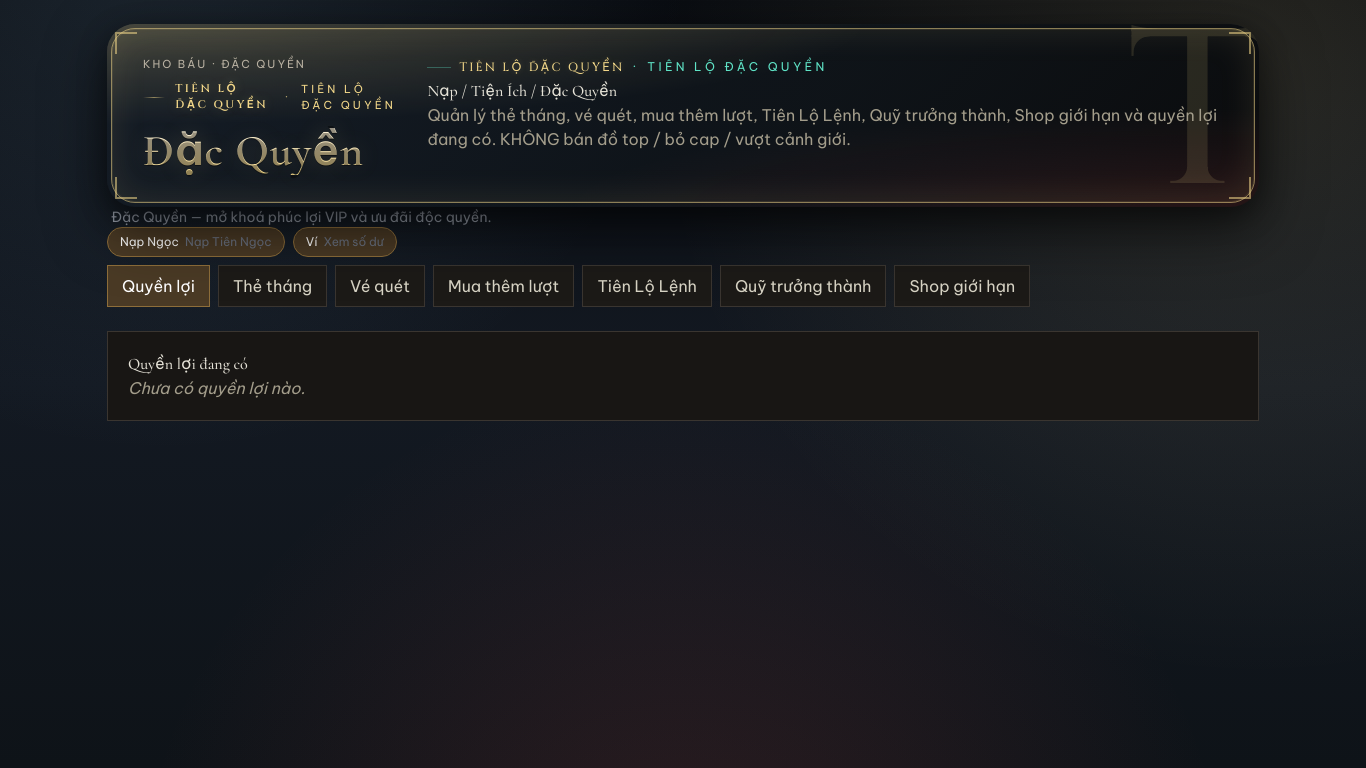
it: MonetizationDacQuyenView — Phase 27.1–27.5 › switches to limited shop tab and disables sold-out item
Click the tab with class "tab" showing "Shop giới hạn" at {"x": 962, "y": 286}, box [894,265,1030,307]
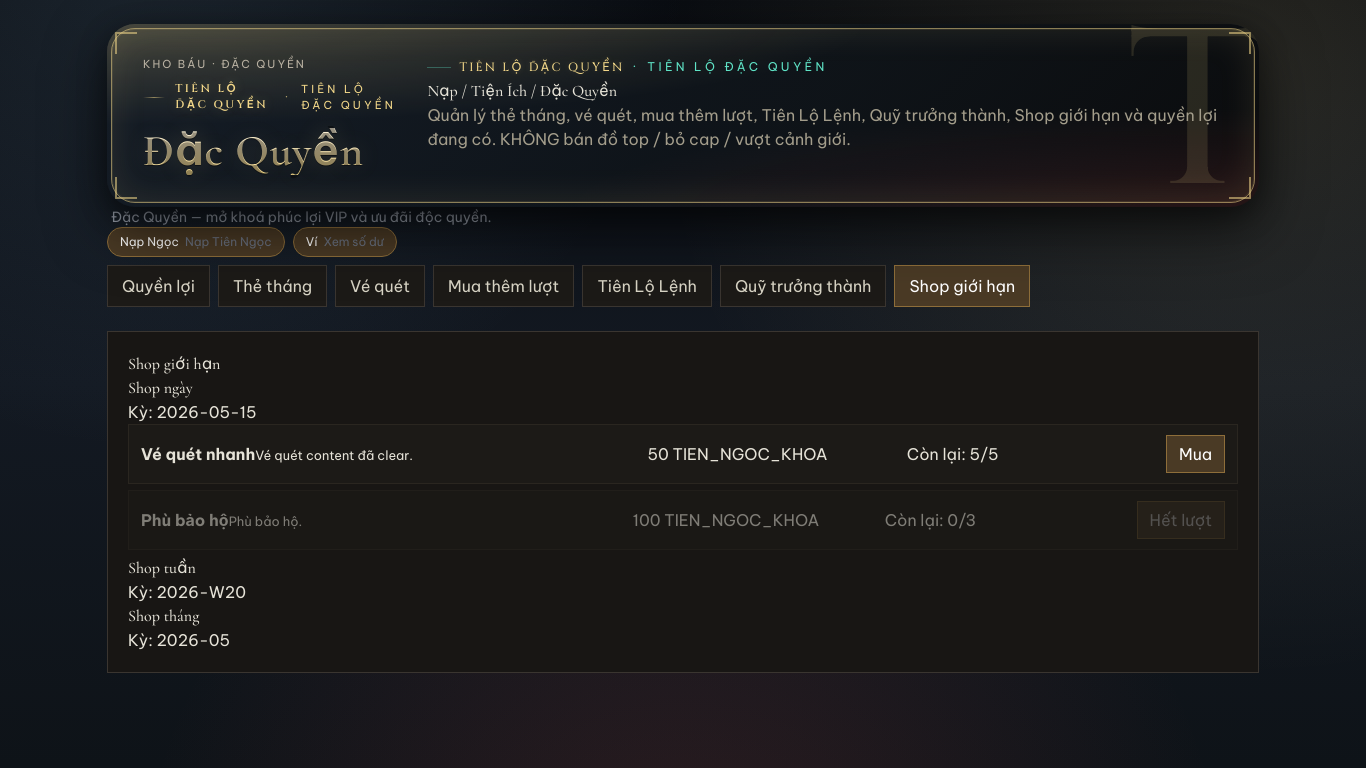
Check: the button "Mua" is shown, box [1166,435,1225,473]
Check: the button "Hết lượt" is shown, box [1137,501,1225,539]
